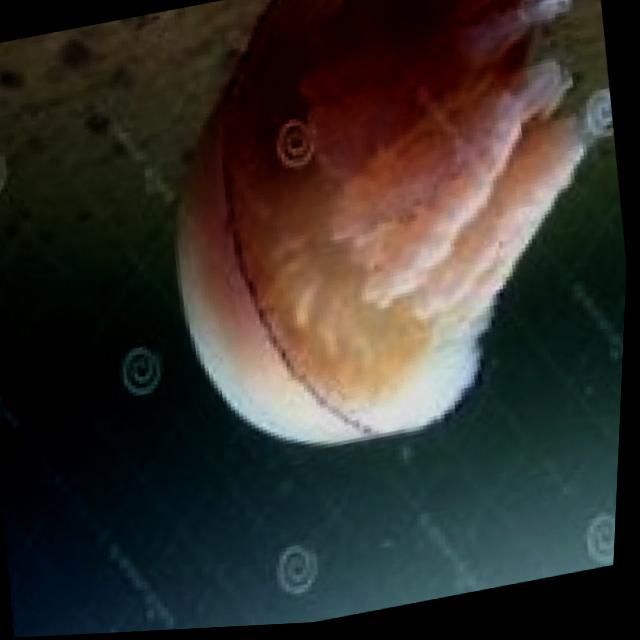Box-jellyfish: (130, 0, 640, 485)
